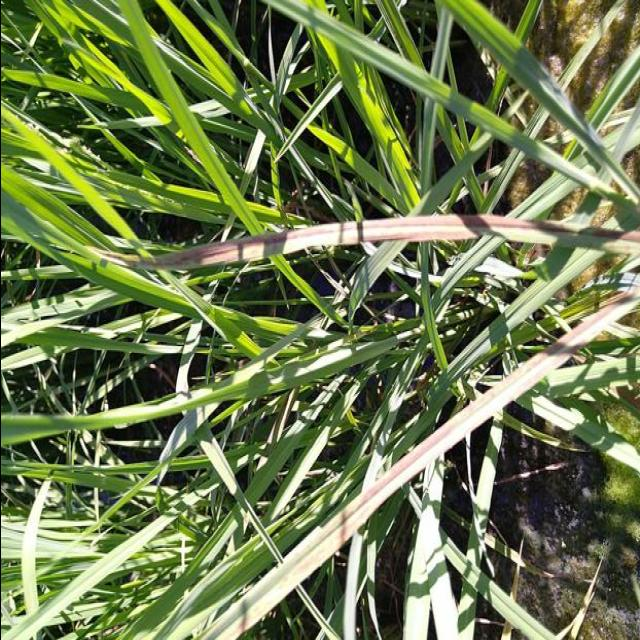Leaf Streak: (339, 287, 640, 544), (87, 214, 640, 269), (214, 593, 288, 640)
